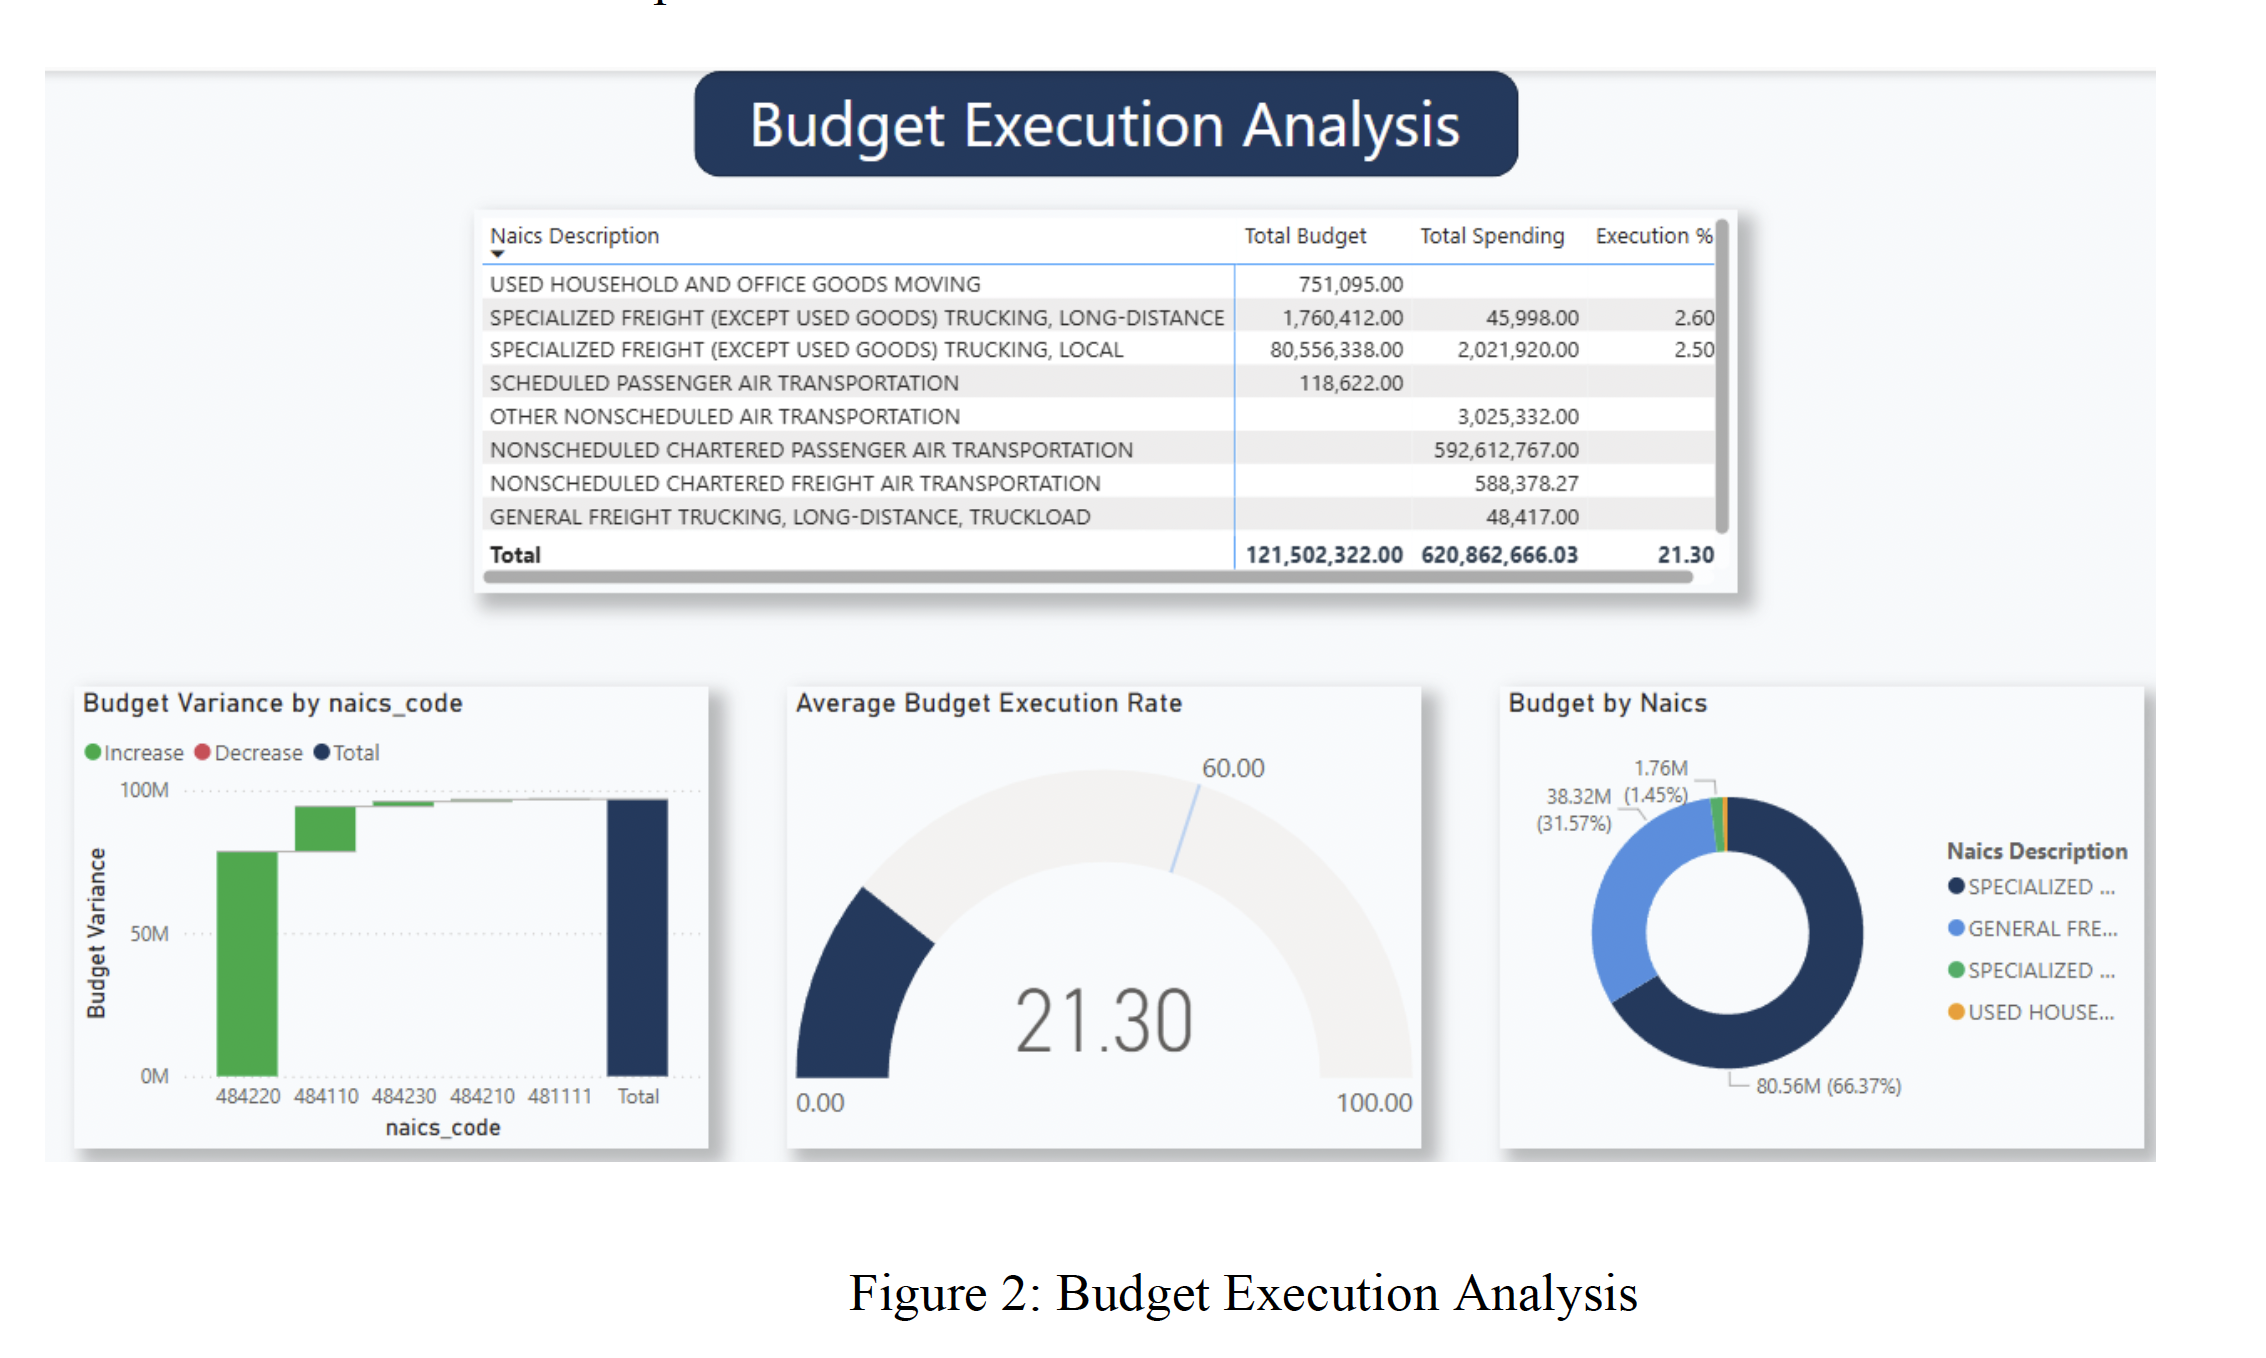

This screenshot's page, from the dashboard's own definition file:
{"tool":"powerbi","page":{"name":"Budget ","canvas":[1280,720],"ordinal":1},"visuals":[{"type":"shape","box":[391.4,0,497.1,64.3],"z":0},{"type":"textbox","box":[401.4,0,477.1,64.3],"z":1000},{"type":"pivotTable","fields":{"Rows":["budget_analysis_summary.naics_description"],"Values":["budget_analysis_summary.Total Budget","budget_analysis_summary.Total Spending","Avg(budget_analysis_summary.avg_budget_execution_rate)"]},"box":[258.6,82.9,762.9,231.4],"z":2000},{"type":"waterfallChart","fields":{"Category":["budget_analysis_summary.naics_code"],"Y":["budget_analysis_summary.Budget Variance"]},"box":[18.6,371.4,382.9,278.6],"z":3000},{"type":"gauge","fields":{"Y":["Avg(budget_analysis_summary.avg_budget_execution_rate)"]},"box":[448.6,371.4,382.9,278.6],"z":4000},{"type":"donutChart","title":"Budget by Naics","fields":{"Category":["budget_analysis_summary.naics_description"],"Y":["budget_analysis_summary.Total Budget"]},"box":[878.6,371.4,388.6,278.6],"z":5000}]}

Visuals, with their boxes on the page's 1280x720 design canvas (x1, y1, x2, y2). These are canvas units, not pixel positions in the 2266x1358 screenshot, which may show the page scaled, cropped or inside an application window:
shape: {"left": 391, "top": 0, "right": 888, "bottom": 64}
textbox: {"left": 401, "top": 0, "right": 878, "bottom": 64}
pivotTable - budget_analysis_summary.naics_description x budget_analysis_summary.Total Budget: {"left": 259, "top": 83, "right": 1022, "bottom": 314}
waterfallChart - budget_analysis_summary.naics_code x budget_analysis_summary.Budget Variance: {"left": 19, "top": 371, "right": 402, "bottom": 650}
gauge - Avg(budget_analysis_summary.avg_budget_execution_rate): {"left": 449, "top": 371, "right": 832, "bottom": 650}
"Budget by Naics" donutChart: {"left": 879, "top": 371, "right": 1267, "bottom": 650}
